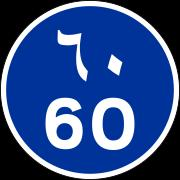Speed Limit -60-: (15, 93, 165, 166)
